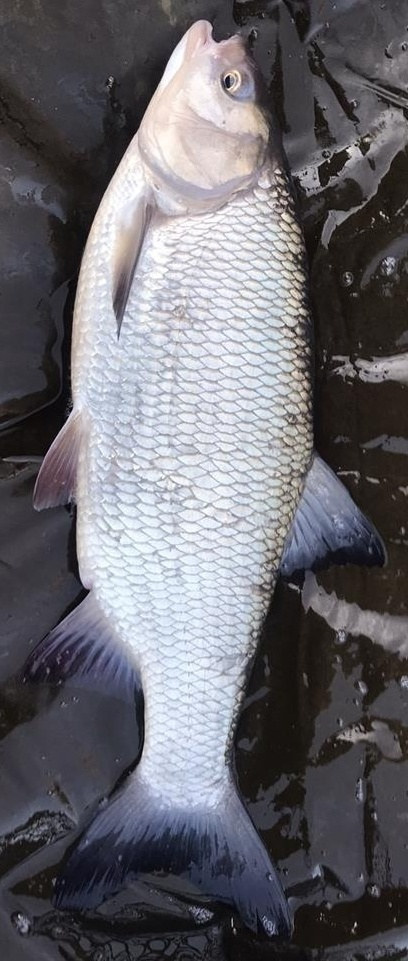Leuciscus idus: (20, 20, 388, 942)
